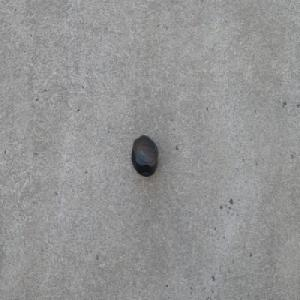FuelCap: (131, 134, 158, 177)
